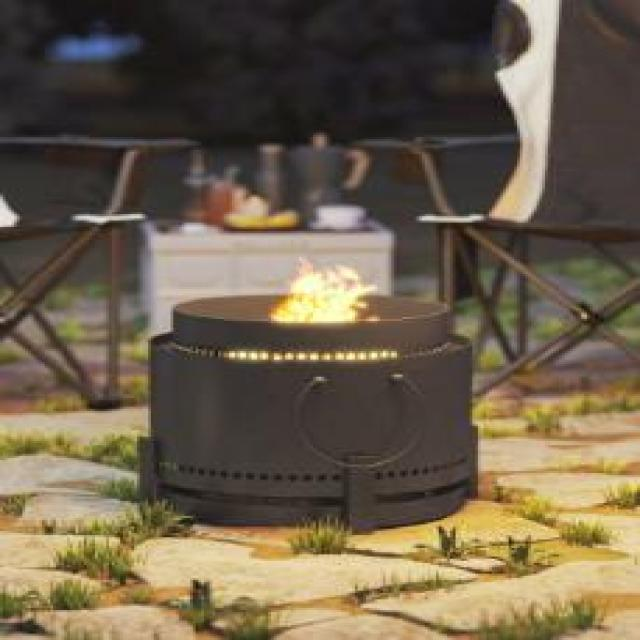Fire_Save: (137, 257, 478, 529), (266, 255, 378, 323)
